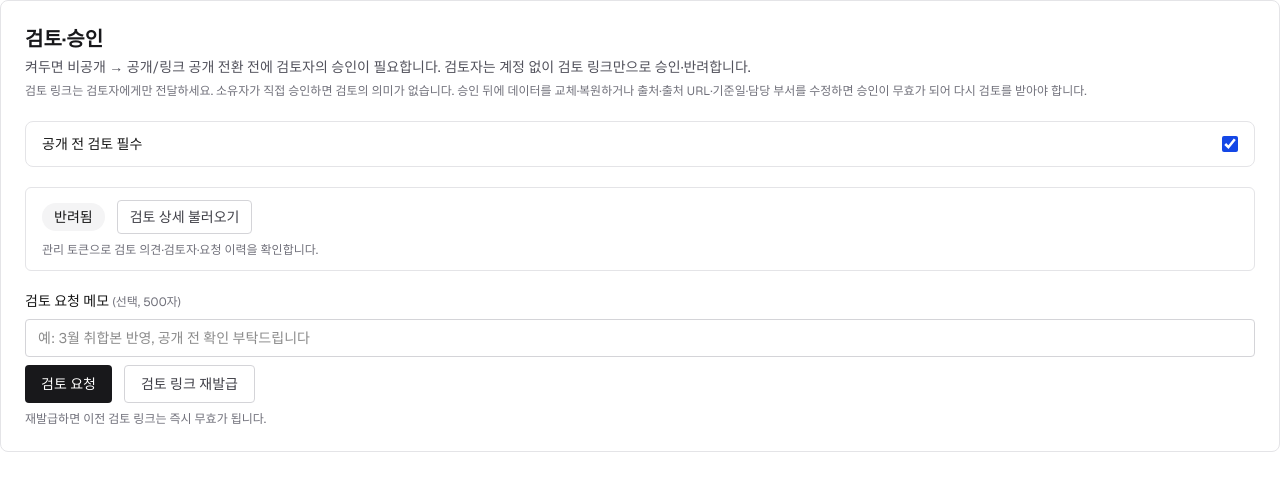
Test: ReviewSection › loading details posts the admin token to the state route and renders reviewer label and comment
Click the button "검토 상세 불러오기" at (184,217), box top-left (117, 200), bottom-right (252, 234)
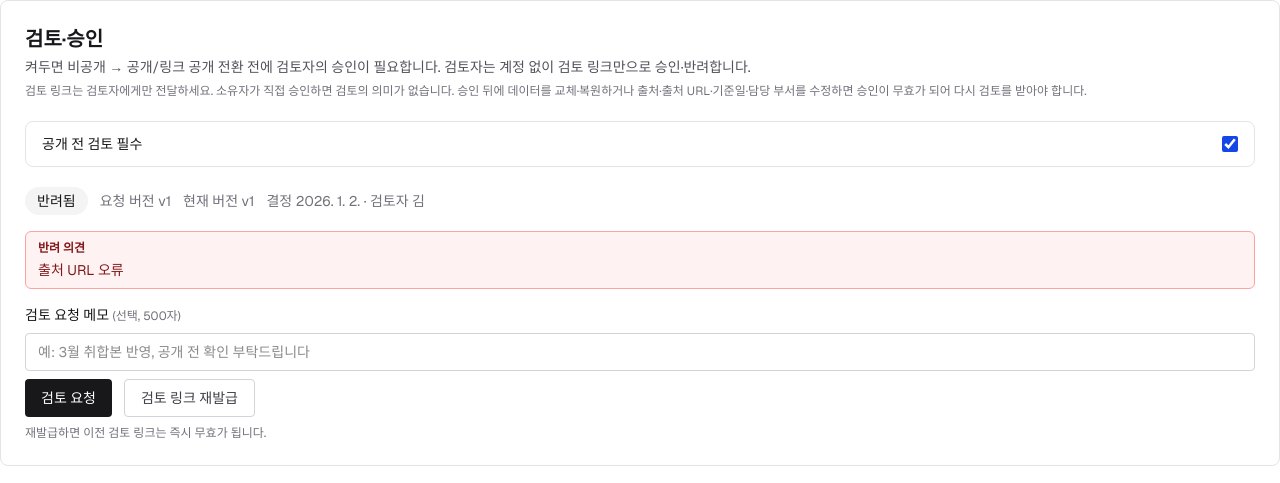
Expected: the text "출처 URL 오류" is shown, top-left (38, 261), bottom-right (124, 279)
Expected: the text "검토자 김" is shown, top-left (360, 192), bottom-right (425, 210)
Expected: the button "검토 상세 불러오기" no longer shows "검토 상세 불러오기"
